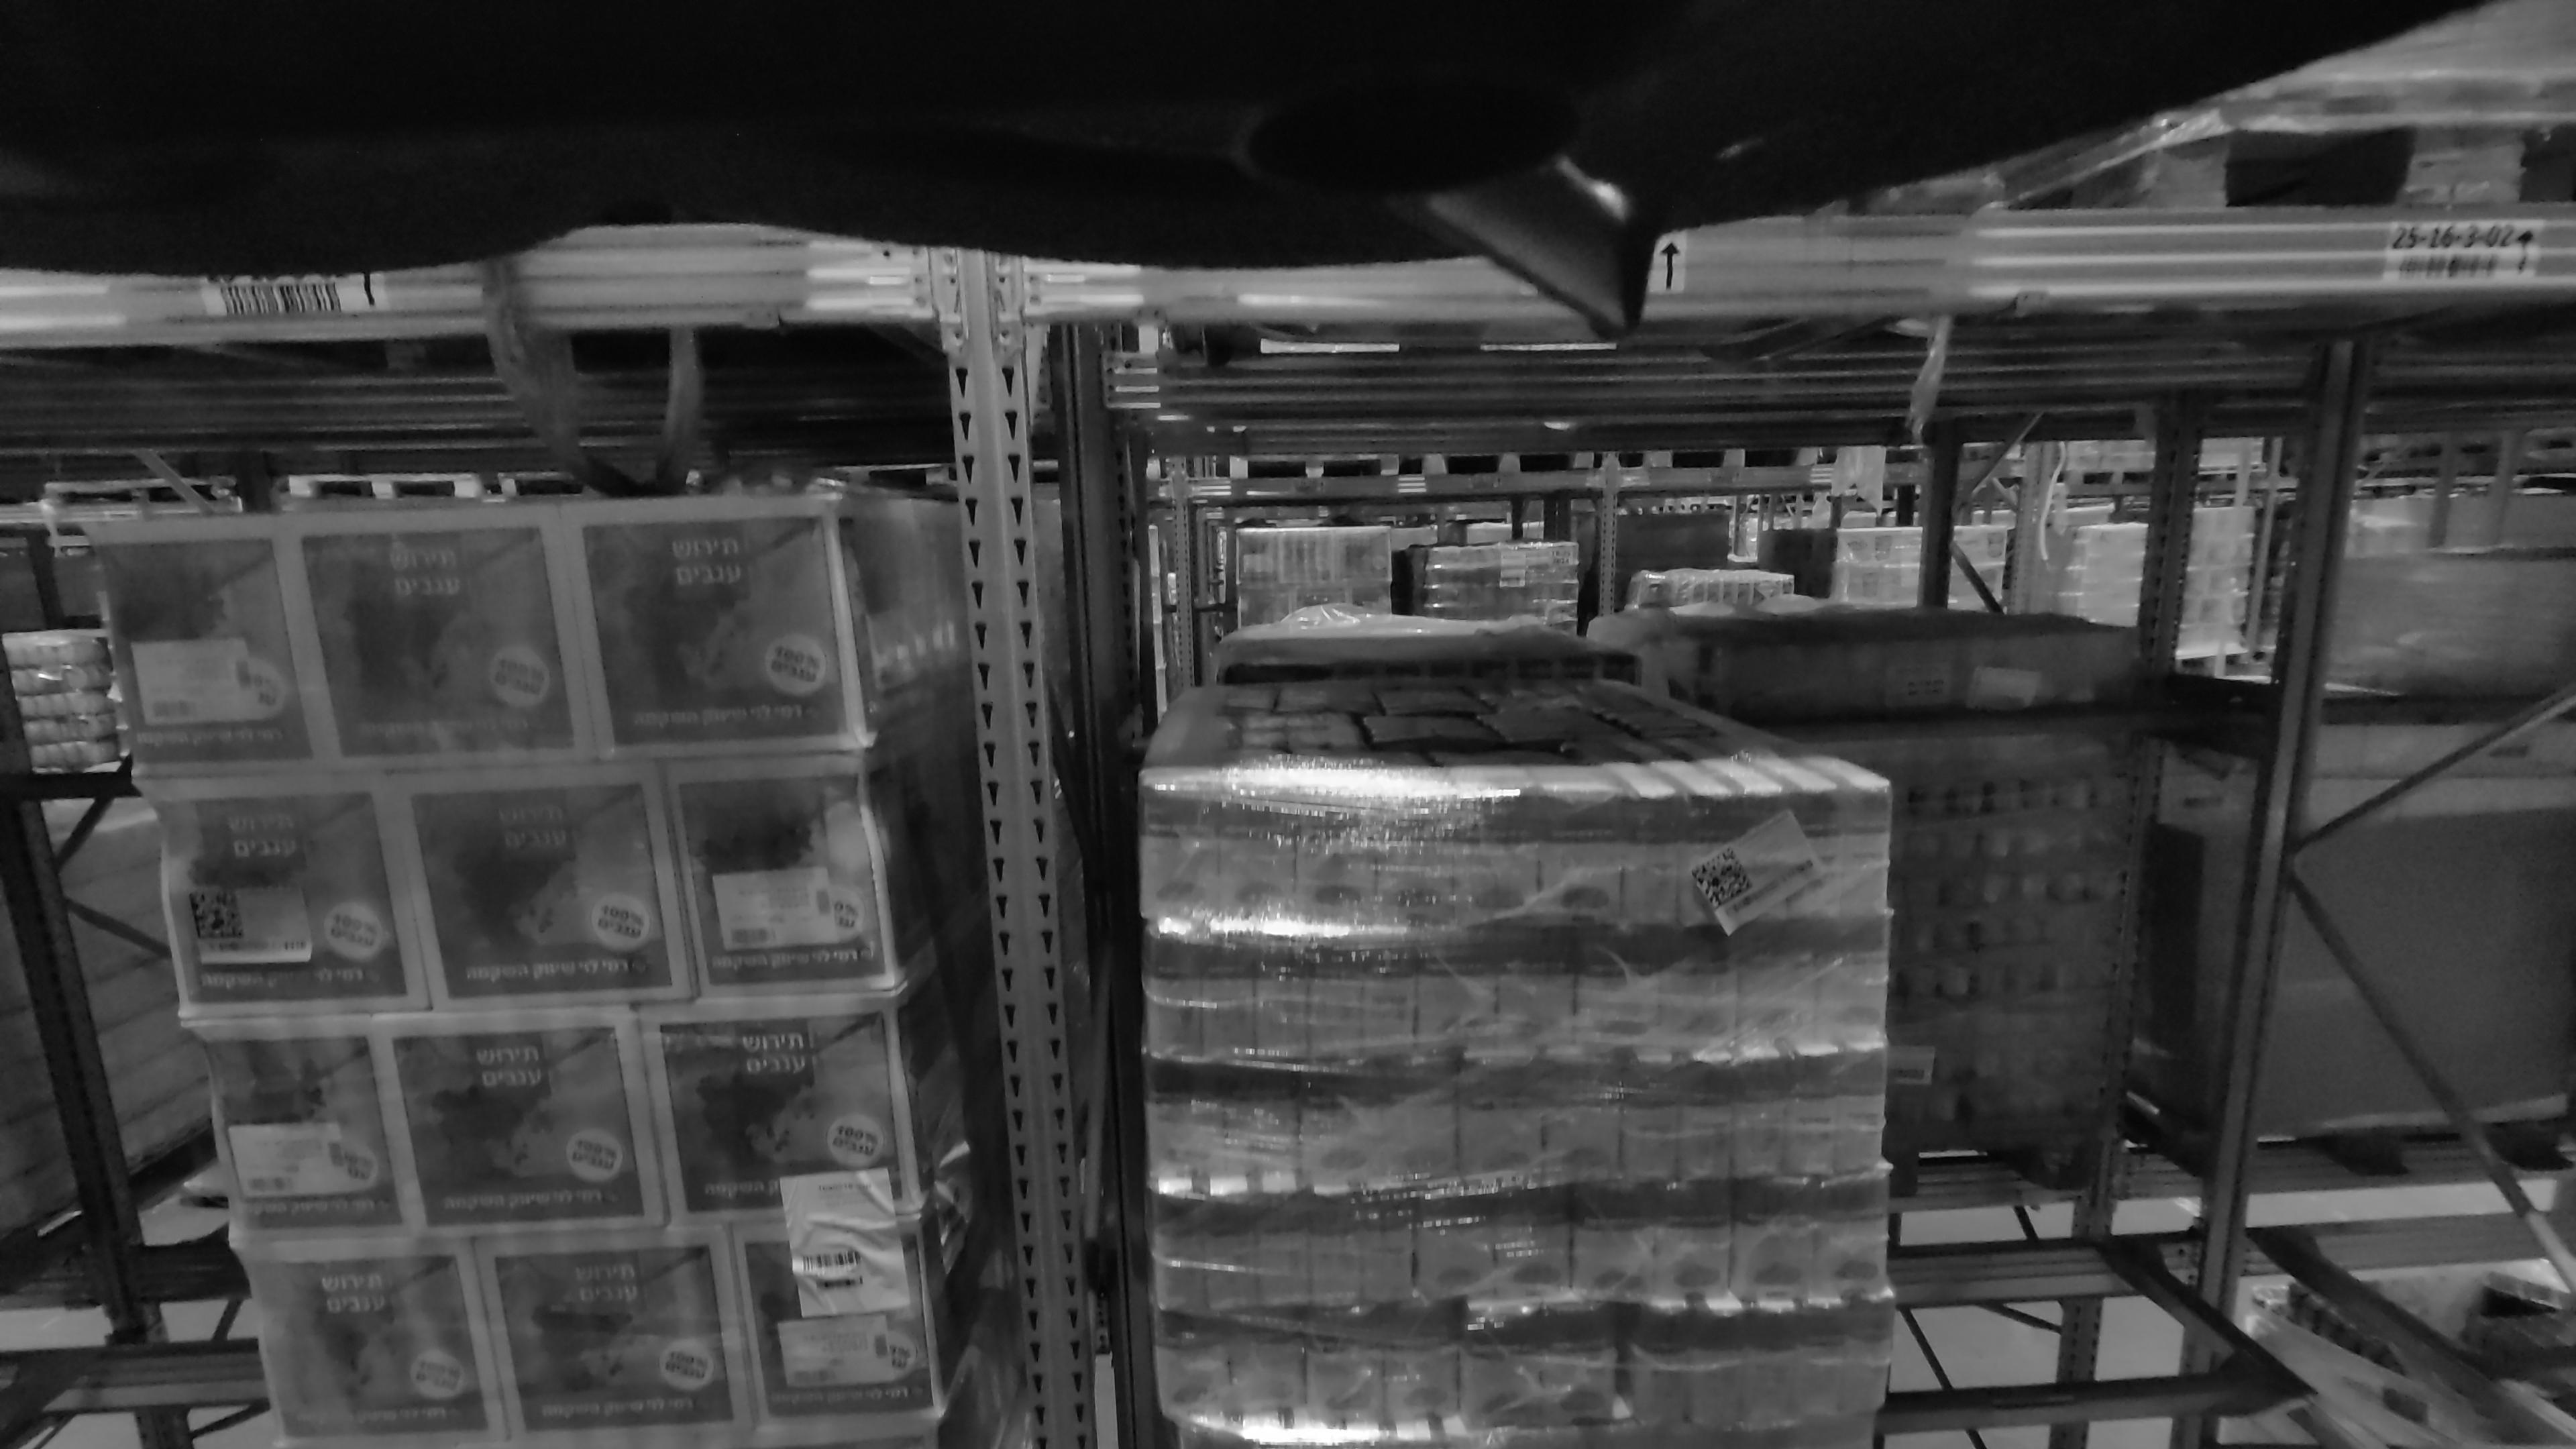empty-shelf: (1921, 308, 2404, 1449)
